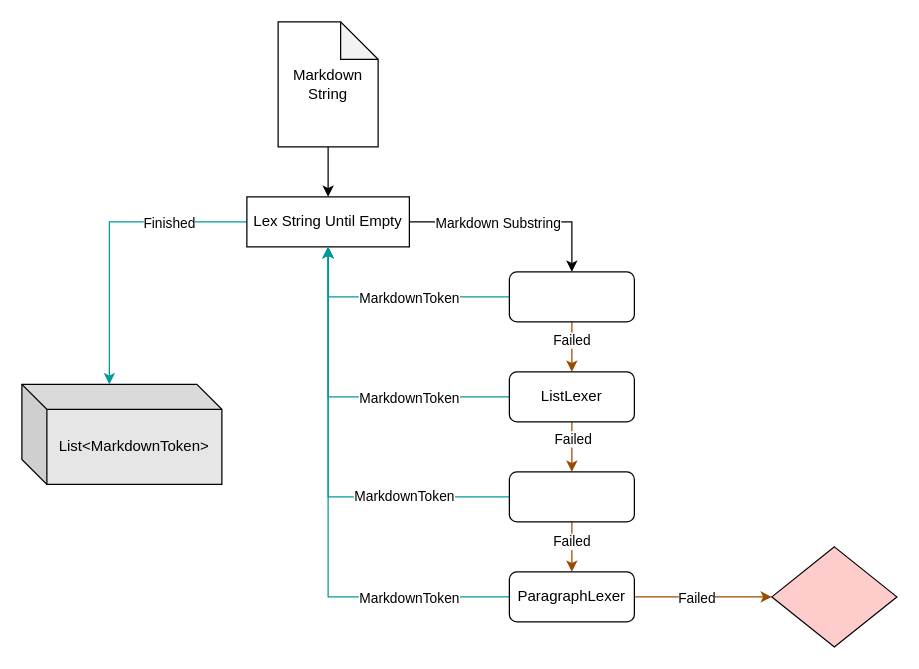
Image size: 919x669. Some labels were removed from this diagram. Here are the shapes that lost their labels. From the top down, the centre of each, then its label:
the point at 571,296: AtxHeaderLexer
the point at 571,496: EmptylineLexer
the point at 834,596: exception Infinite Loop Detected
